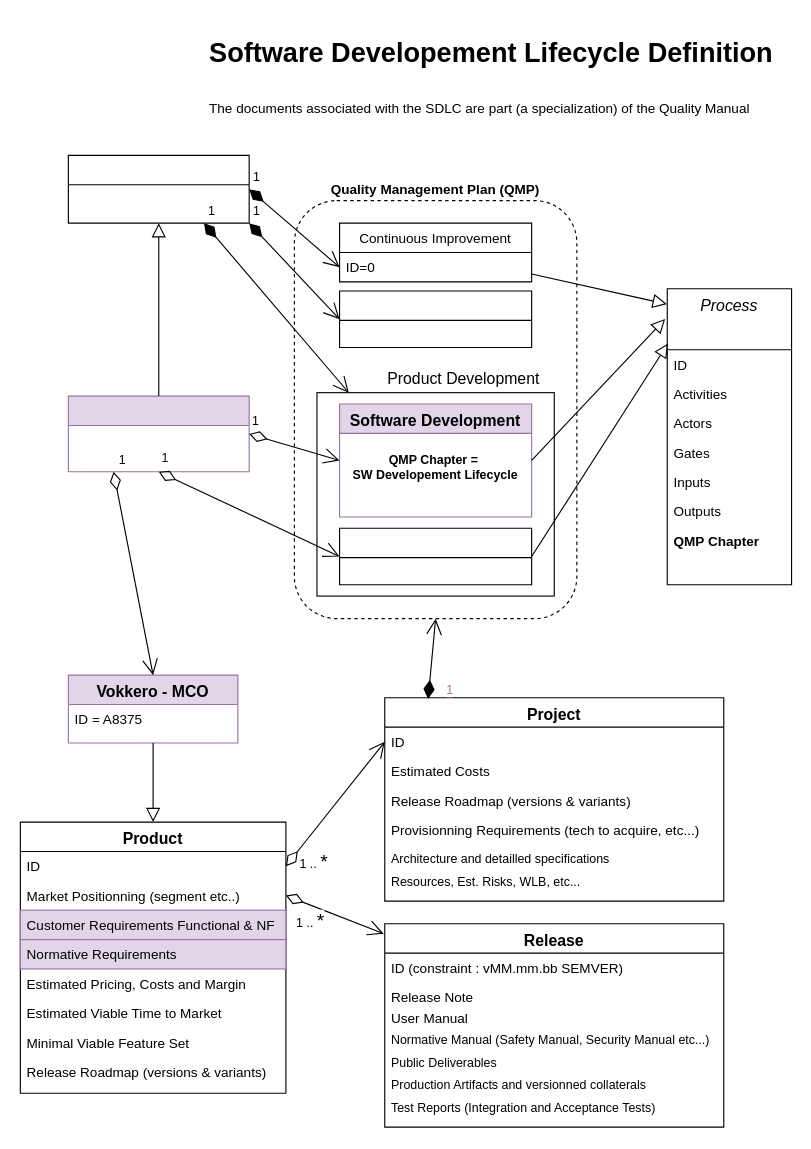
This 811x1149 diagram has some shape labels left out. Each missing label, with the centre of its shape:
Company: point (158, 188)
Hardware Development: point (435, 556)
Other Processes ..: point (435, 318)
Vokkero: point (158, 433)
